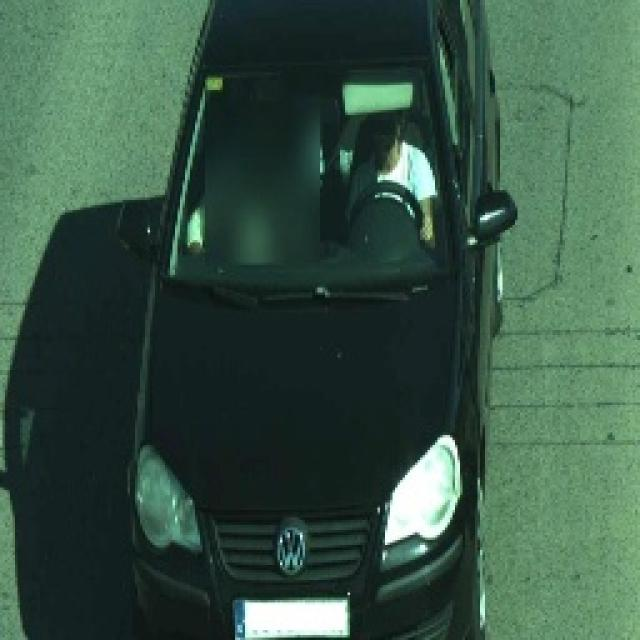windshield: (143, 39, 486, 325)
